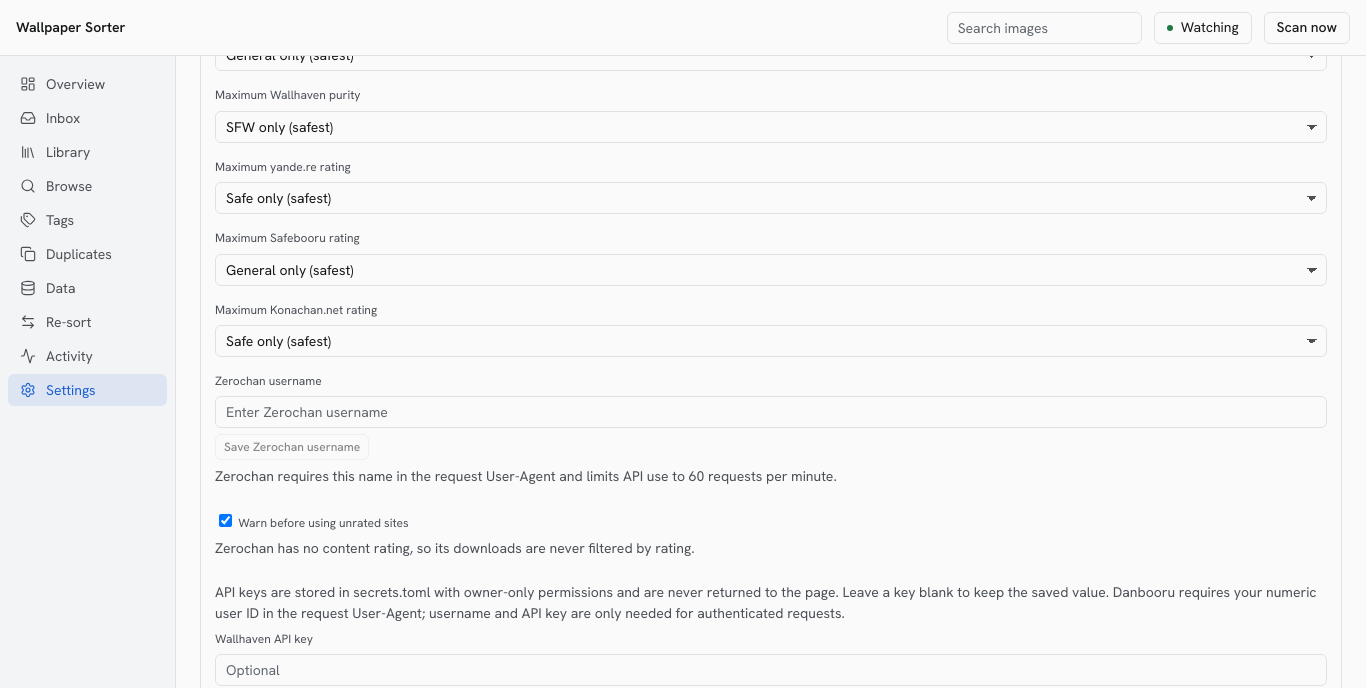
saves Zerochan identity, Konachan rating, and the unrated-site warning preference
Later steps or results of the test are not shown.
(page scrolled)
Type "sample-user" into the field labelled "Zerochan username" at (771, 412), box [215,396,1327,428]
Click the button "Save Zerochan username" at (292, 447), box [215,434,369,460]
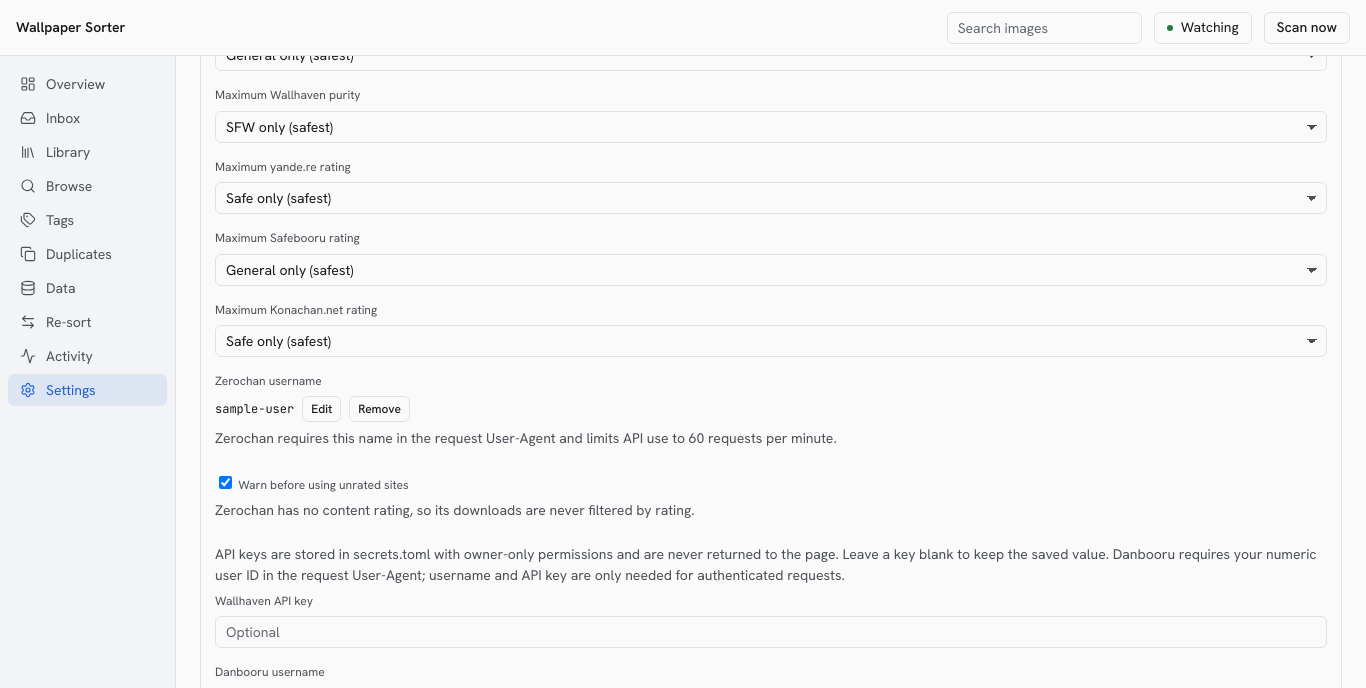
Expected: the text "sample-user" is shown, [215,401,294,418]
Click the button with aria-label "Edit Zerochan username" at (322, 409), box [302,396,341,422]
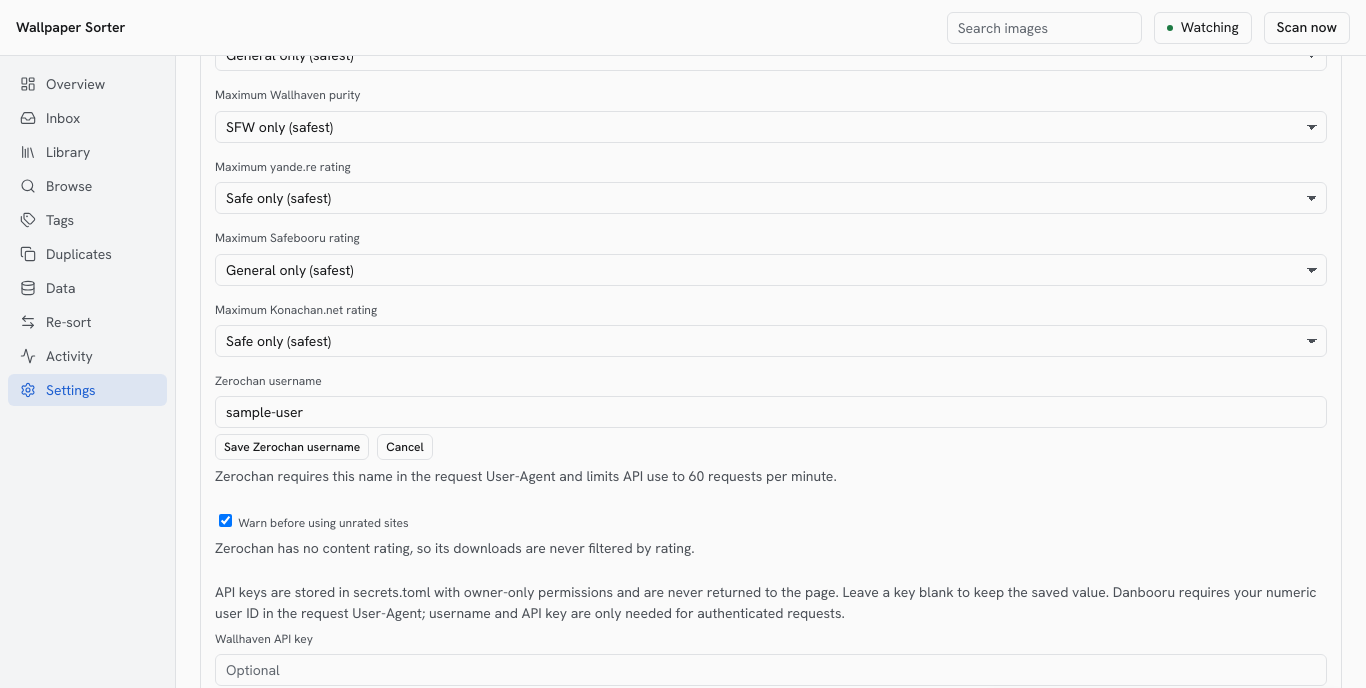
Expected: the field labelled "Zerochan username" holds "sample-user"
Replace the text in the field labelled "Zerochan username" with "updated-user" at (771, 412), box [215,396,1327,428]
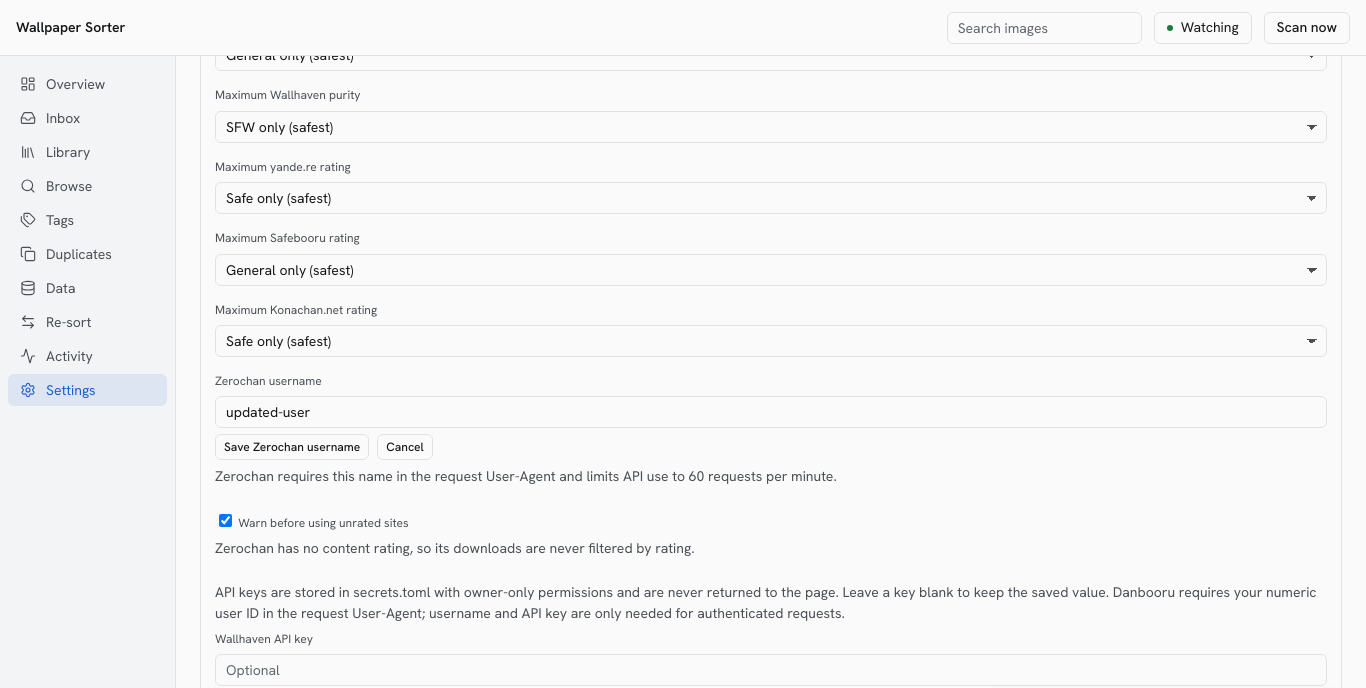
Click the button "Save Zerochan username" at (292, 447), box [215,434,369,460]
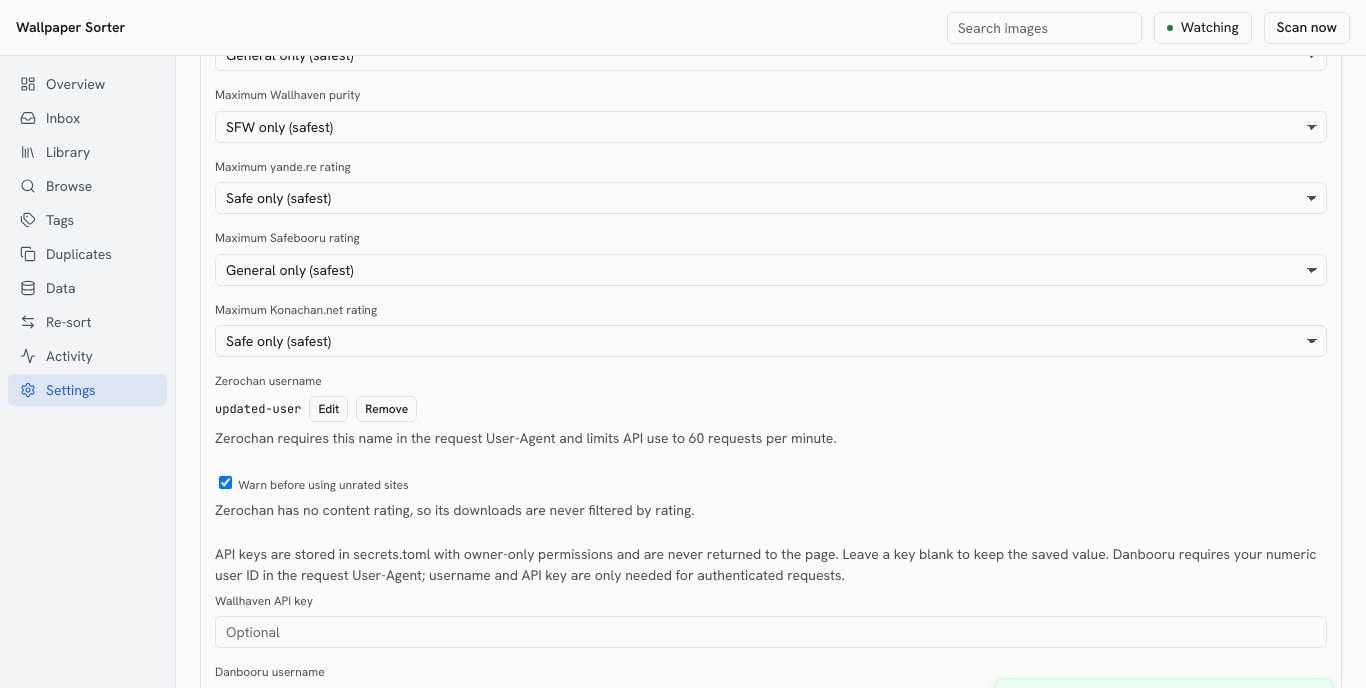
Select "Include questionable" in the dropdown labelled "Maximum Konachan.net rating" at (771, 341), box [215,325,1327,357]
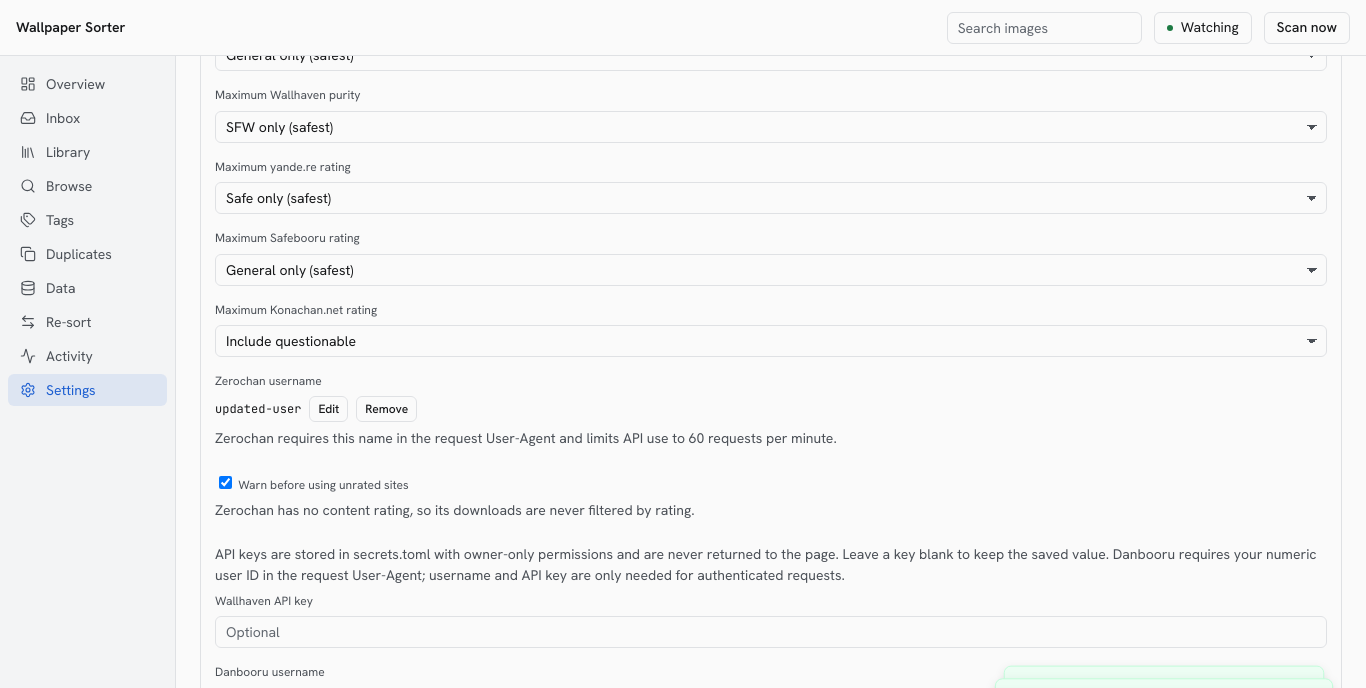
Click the checkbox labelled "Warn before using unrated sites" at (226, 482), box [219,476,232,489]
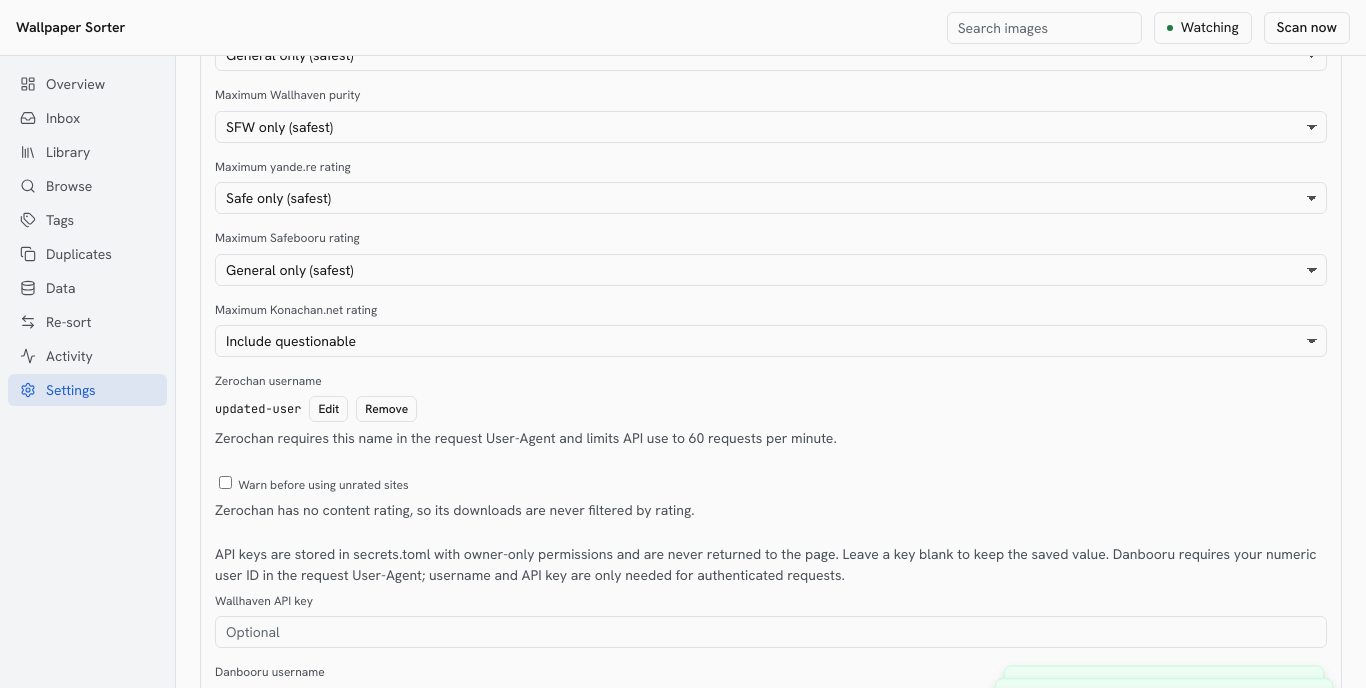
Expected: the checkbox labelled "Warn before using unrated sites" is not checked, [219,476,232,489]
